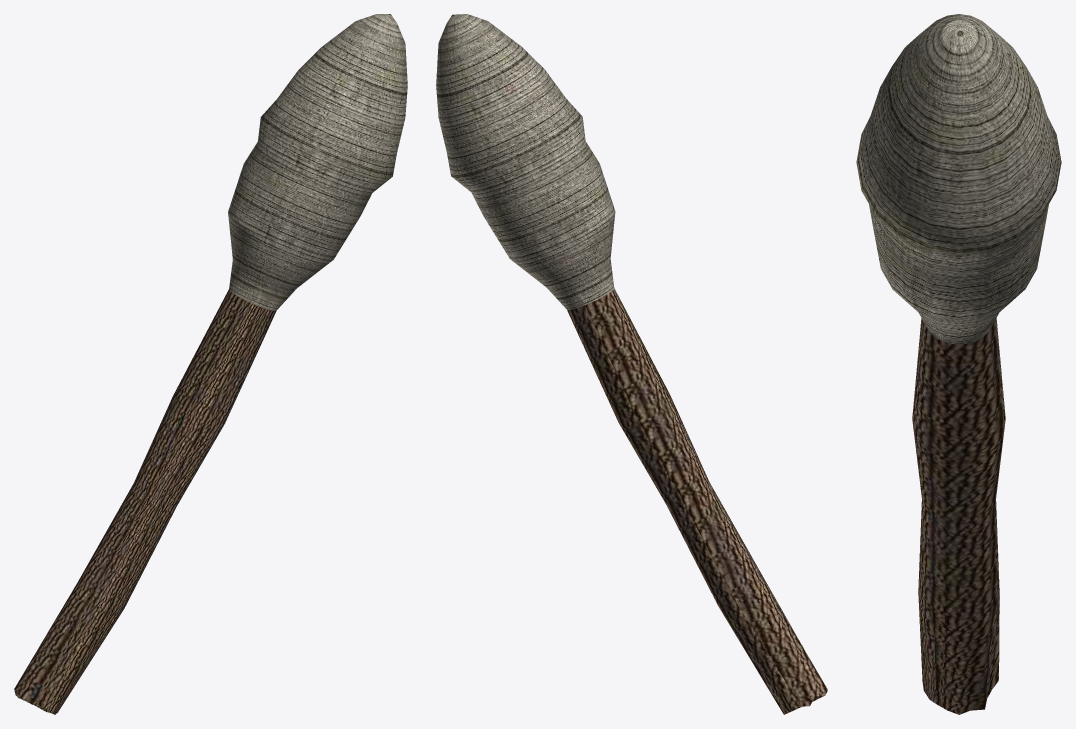
The model's file is Mashal.fbx.
3 renders of one model, left to right at view 1: azimuth 30°, elevation 25°; view 2: azimuth 150°, elevation 25°; view 3: azimuth 270°, elevation 25°, orthographic. The views are drawn at different scales.
Visible parts, largest first — view 1: pCylinder1; view 2: pCylinder1; view 3: pCylinder1.
Boxes of the visible parts, x1,y1,x2,y2 form: pCylinder1: (14, 14, 407, 714); pCylinder1: (436, 14, 827, 714); pCylinder1: (856, 14, 1061, 714).
Bounding box in the file's own units: 11.75 × 18.01 × 3.59.
